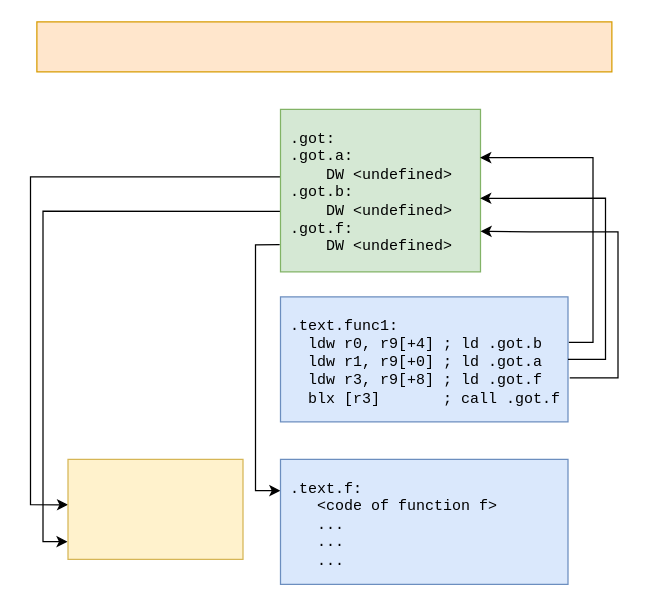
Some shapes in this 650 by 608 pixel diagram are drawn without their labels. The shapes that lost their labels are listed below. From the top down, each one's centre as x and y in pixels, then its label:
At (324,46): "r9 = .got ; at startup".
At (155,508): ".data.a: DW 0xDEADBEEF .data.b: DW 0xCAFEBABE".
